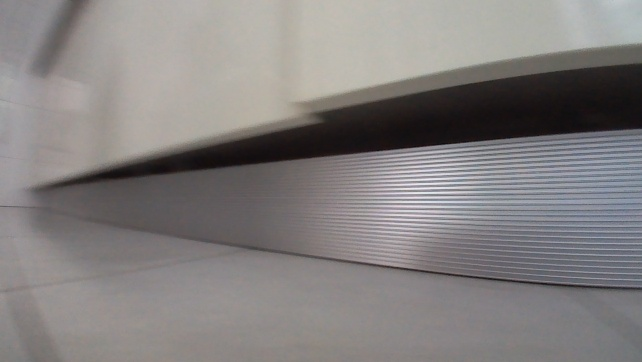cupboard1: (22, 0, 641, 290)
